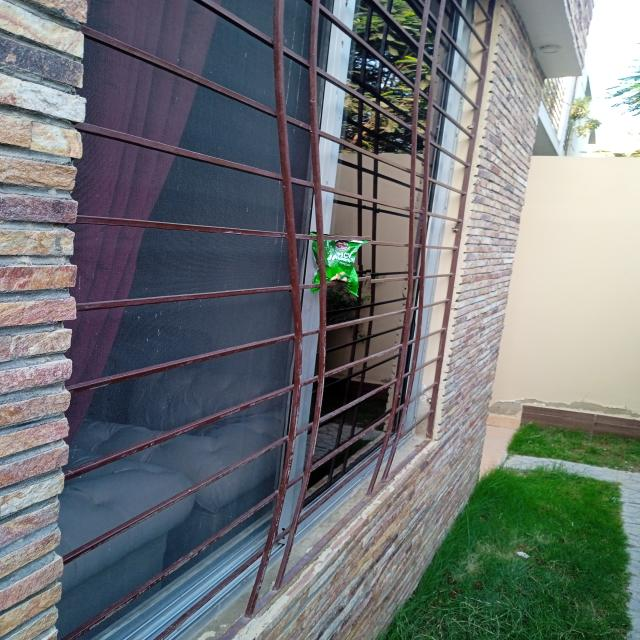Plastic: (312, 234, 371, 291)
